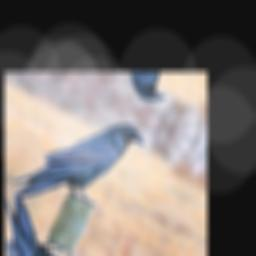Crow: (9, 85, 151, 239)
